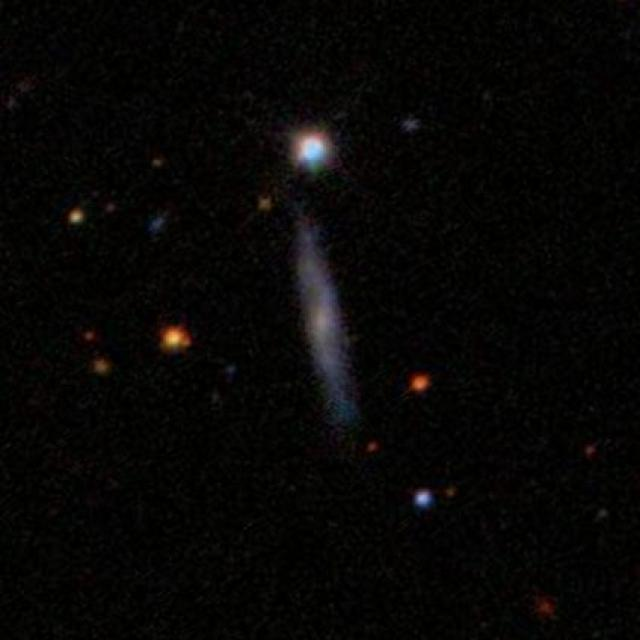galaxy: (290, 209, 367, 435), (283, 119, 344, 187), (3, 68, 44, 114), (156, 320, 197, 359), (530, 591, 560, 625), (399, 108, 424, 143), (403, 370, 434, 397), (254, 189, 276, 217), (148, 209, 168, 239), (90, 355, 113, 379), (411, 485, 434, 507), (68, 207, 88, 229), (582, 441, 602, 461), (367, 438, 383, 460), (444, 485, 462, 503), (226, 362, 243, 381), (103, 200, 120, 217), (597, 506, 614, 523), (83, 329, 96, 345), (149, 157, 167, 168)
